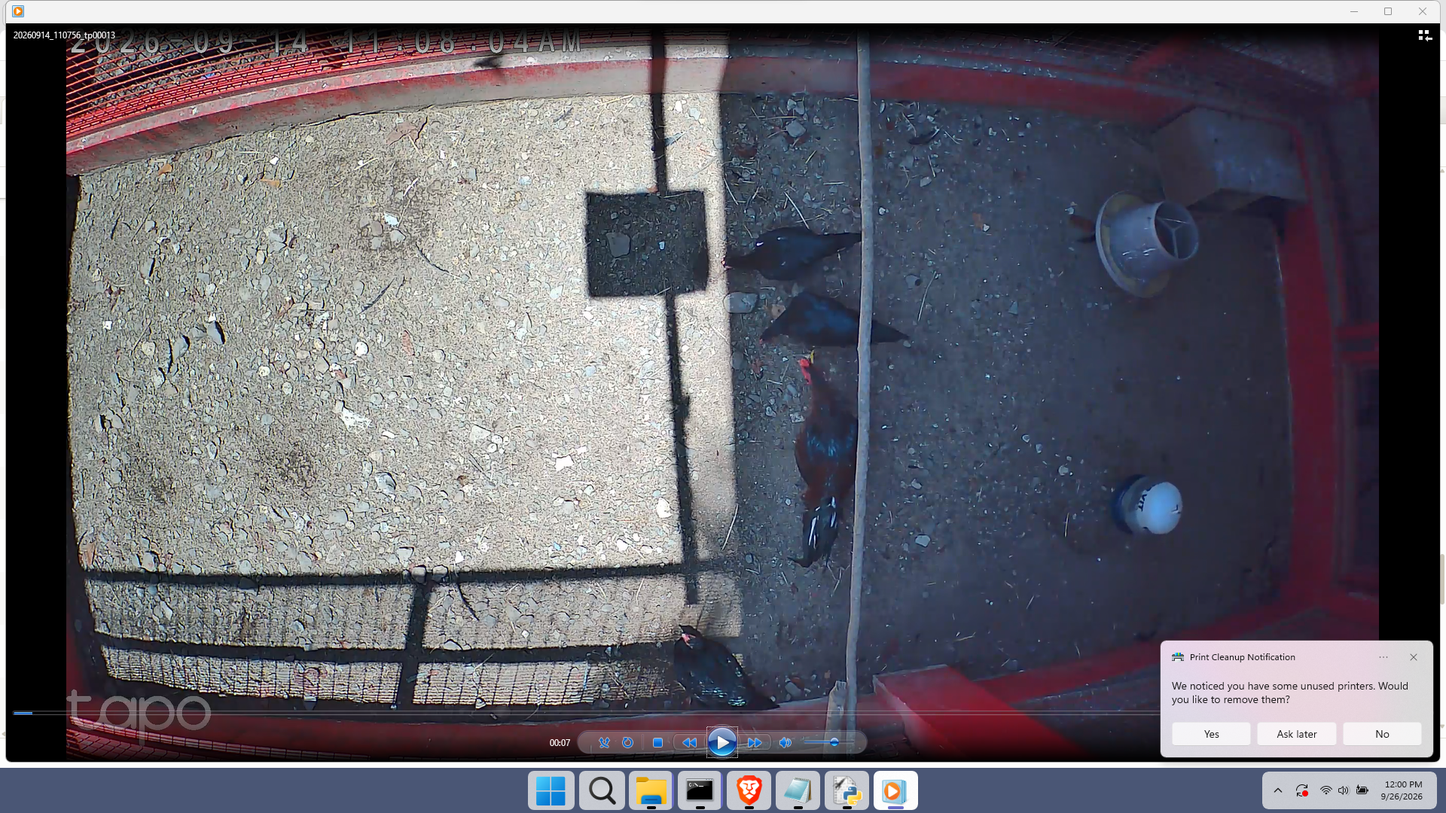Chicken: (666, 622, 783, 710), (758, 290, 911, 350), (721, 225, 863, 283), (1262, 199, 1291, 248)
Drinker: (1112, 471, 1185, 537)
Feeder: (1095, 189, 1200, 301)
Rooster: (787, 356, 858, 569)
